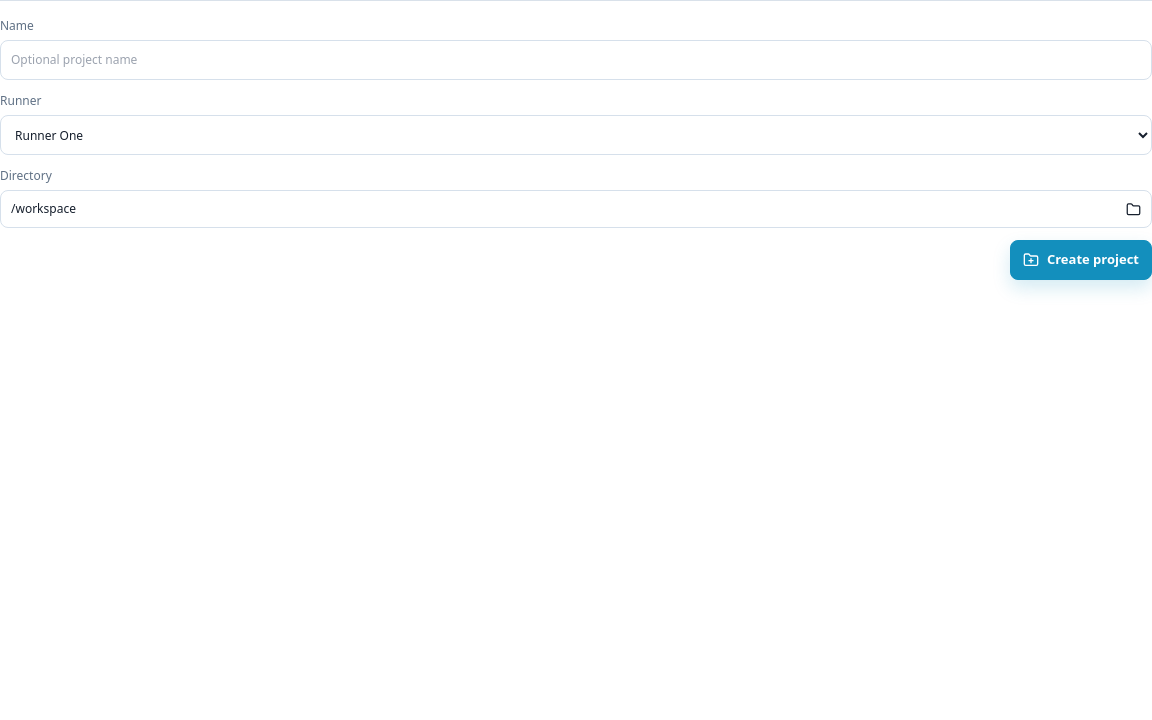
ProjectForm › hides the runner data directory from the directory picker
Click the button named "Directory".
click(43, 208)  # box x1=0 y1=190 x2=1151 y2=228
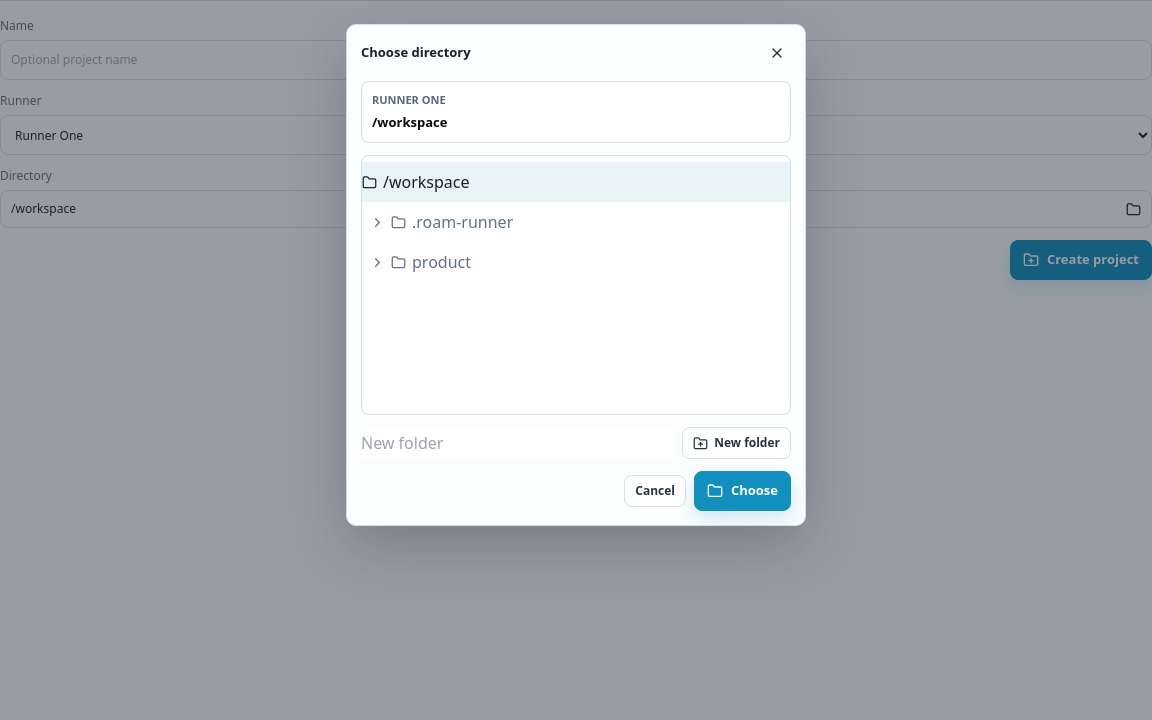
Check: the list item "custom-runtime" is not shown
Check: the list item ".roam-runner" is shown, box x1=362 y1=202 x2=790 y2=242
Check: the list item "product" is shown, box x1=362 y1=242 x2=790 y2=282
Type "custom-runtime" into the field named "New folder name".
click(518, 443); type("custom-runtime")  # box x1=361 y1=427 x2=674 y2=459
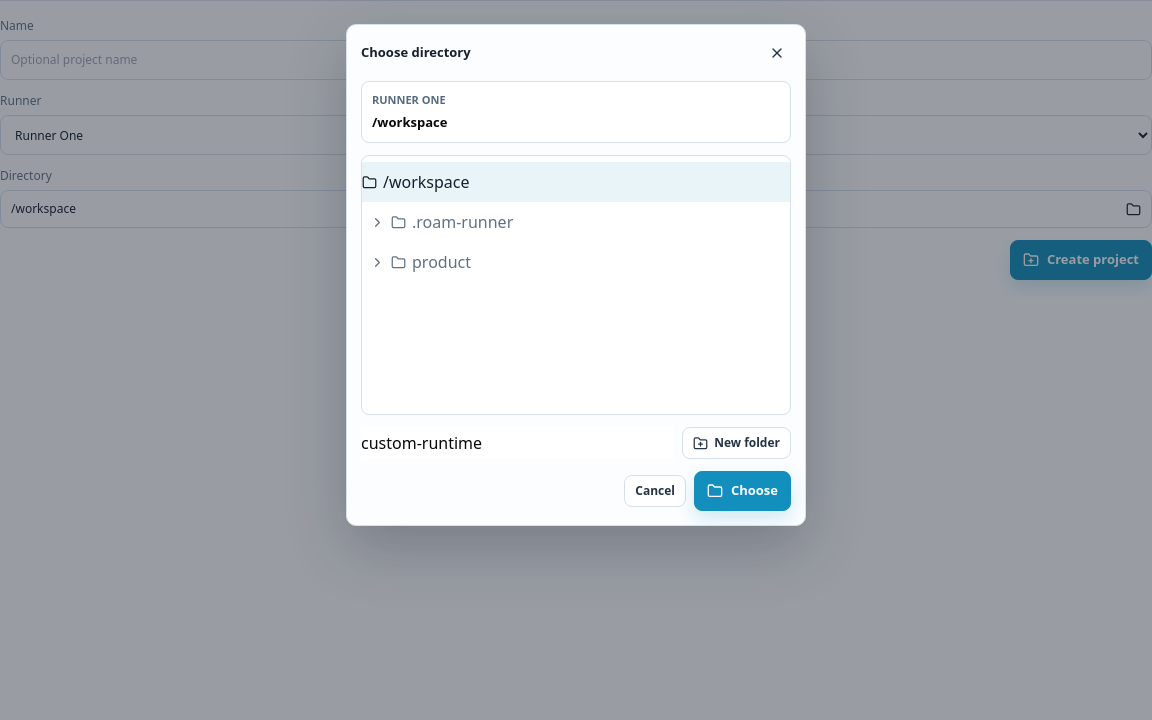
Submit the form named "New folder name", box x1=361 y1=427 x2=791 y2=459
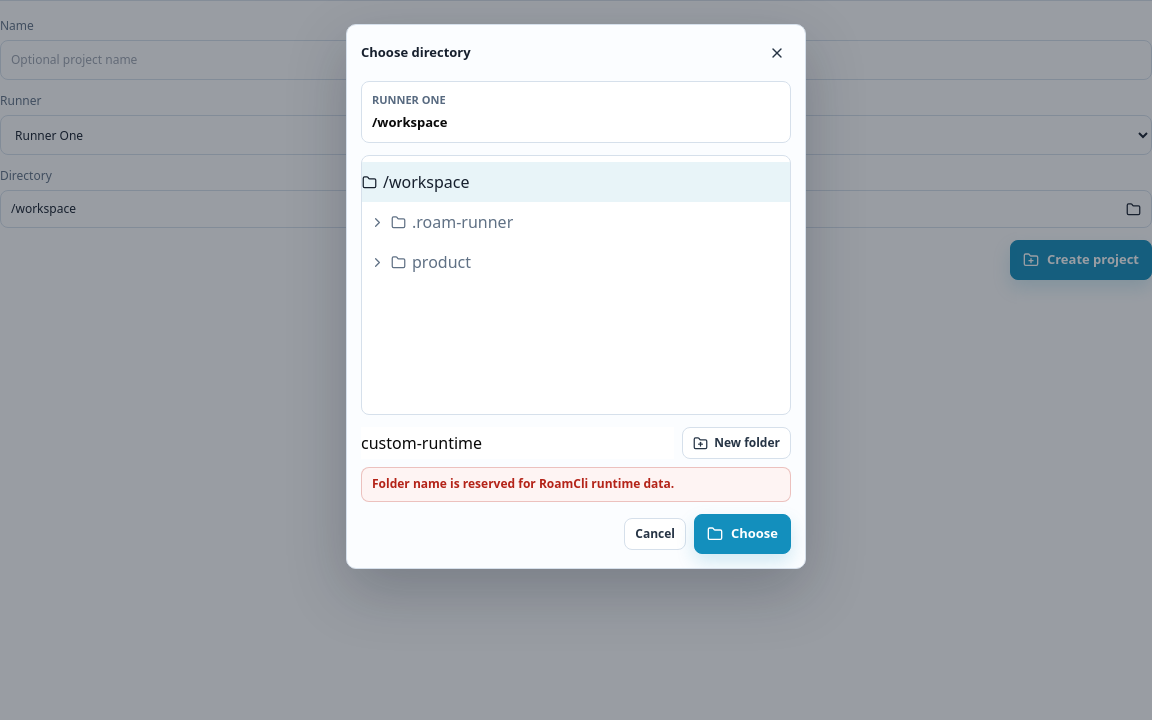
Check: the text "Folder name is reserved for RoamCli runtime data." is shown, box x1=361 y1=467 x2=791 y2=502
